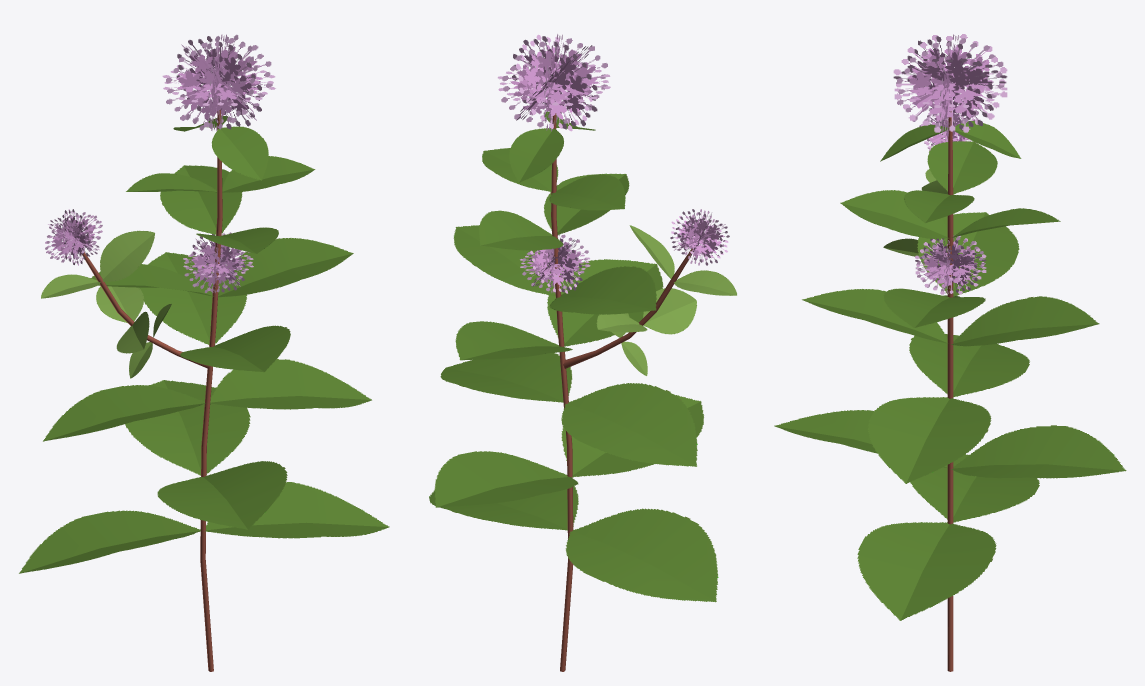
Rendered from Water_Mint_2.gltf.
3 renders of one model, left to right at view 1: azimuth 30°, elevation 25°; view 2: azimuth 150°, elevation 25°; view 3: azimuth 270°, elevation 25°, orthographic.
Visible parts, largest first — view 1: Watermint_2; view 2: Watermint_2; view 3: Watermint_2.
Boxes of the visible parts, x1=… form: Watermint_2: x1=19, y1=34, x2=389, y2=671; Watermint_2: x1=429, y1=34, x2=736, y2=671; Watermint_2: x1=774, y1=34, x2=1126, y2=671.
Bounding box in the file's own units: 23 × 41.33 × 21.31.
1 material, 1 textured.
